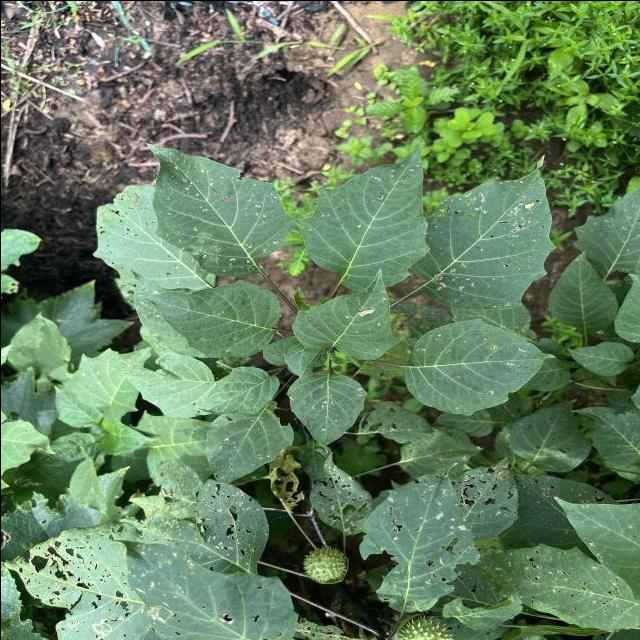Datura metal linn: (407, 152, 558, 312), (142, 140, 298, 278), (295, 139, 431, 292), (401, 315, 556, 417), (134, 278, 282, 358), (289, 266, 402, 361), (283, 366, 369, 454), (192, 364, 280, 416)
